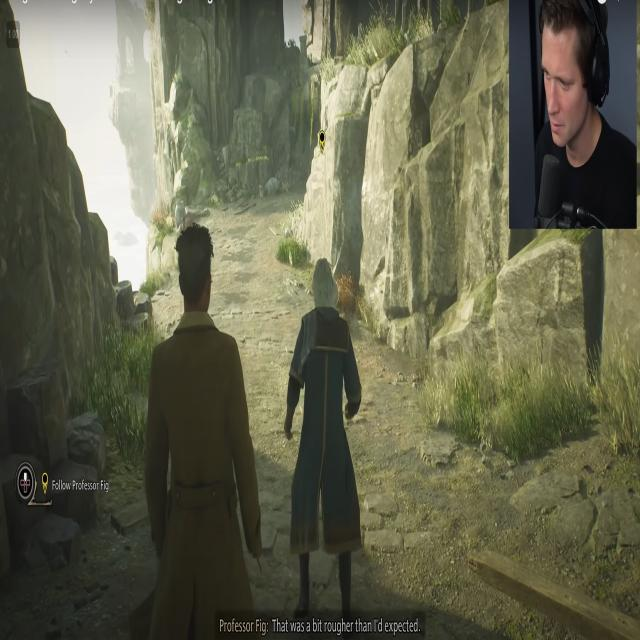compass: (318, 130, 326, 155), (42, 472, 48, 495)
